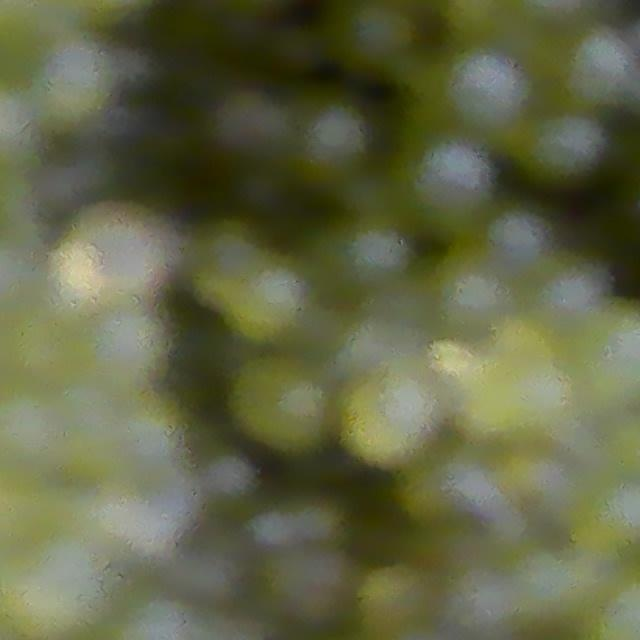SeaGrape: (0, 525, 112, 640), (229, 351, 339, 462), (337, 363, 444, 472), (560, 294, 640, 417), (222, 254, 323, 349), (30, 32, 123, 130), (401, 137, 495, 229), (262, 539, 357, 629), (437, 46, 531, 135), (431, 251, 517, 339), (519, 106, 609, 188), (86, 304, 172, 389), (208, 86, 294, 169), (293, 97, 374, 181), (113, 389, 192, 474), (560, 26, 640, 109), (334, 0, 420, 76), (334, 211, 413, 292), (357, 561, 436, 636), (484, 205, 554, 272), (197, 451, 255, 507)
